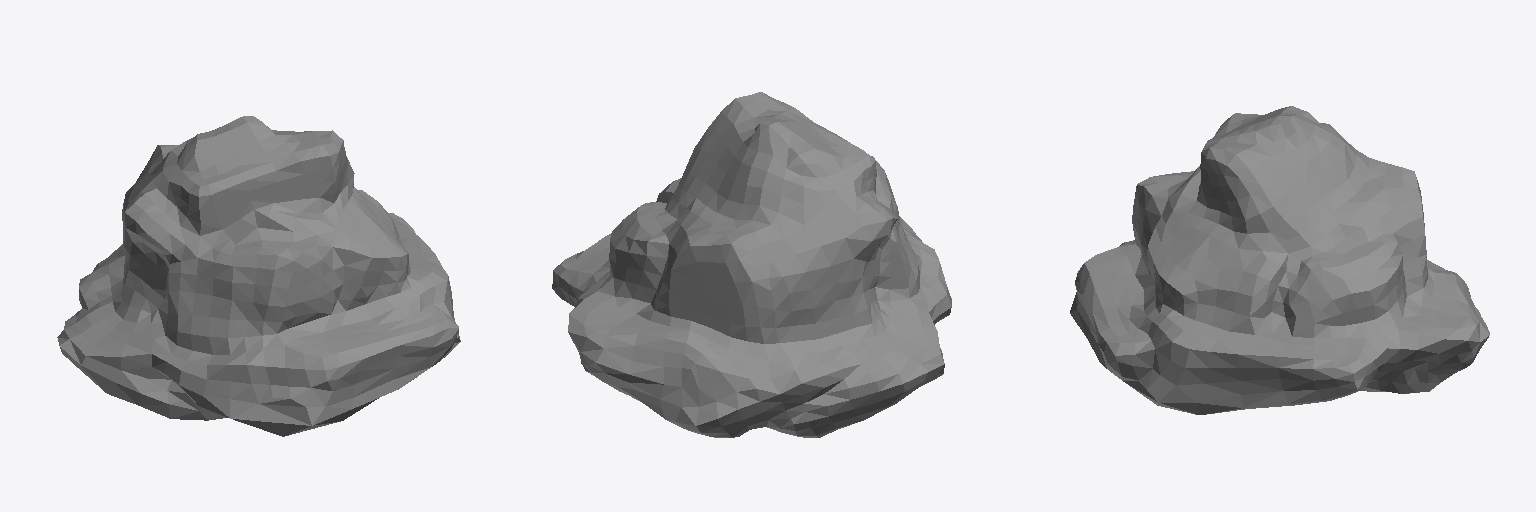
File: roca_final.obj
The picture shows the model from 3 angles: view 1: azimuth 30°, elevation 25°; view 2: azimuth 150°, elevation 25°; view 3: azimuth 270°, elevation 25°; orthographic projection.
Visible parts, largest first — view 1: Rock_6; view 2: Rock_6; view 3: Rock_6.
Part boxes in pixels (left/top/right/bottom): Rock_6: left=57, top=116, right=460, bottom=436; Rock_6: left=552, top=92, right=951, bottom=437; Rock_6: left=1070, top=106, right=1489, bottom=414.
Size of the model in its own units: 260 by 190 by 265.